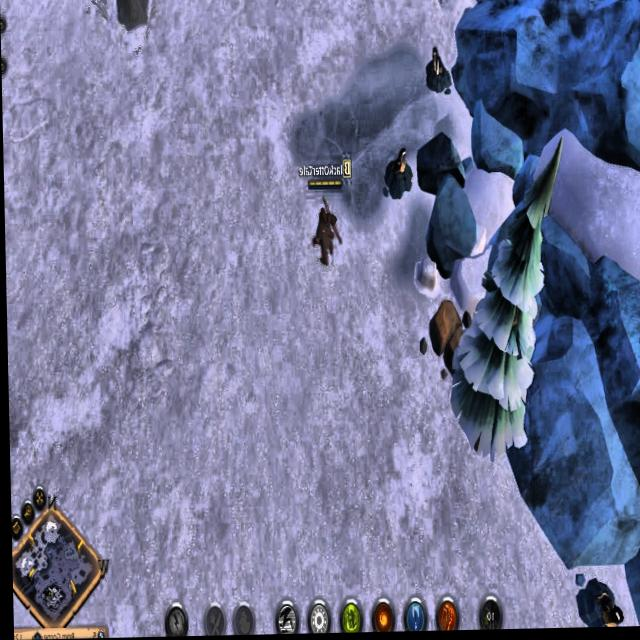copperore: (571, 575, 623, 630), (380, 147, 415, 203), (422, 48, 455, 97)
limestone: (428, 291, 471, 380)
